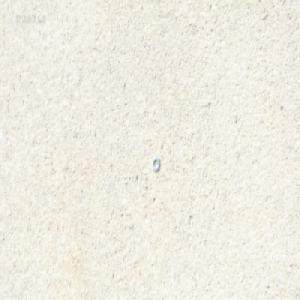Washer: (153, 157, 160, 172)
